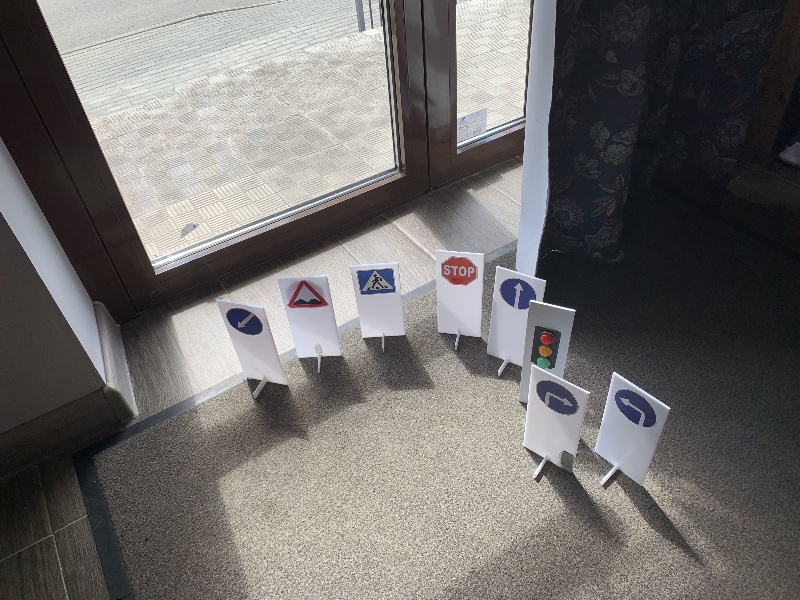Left: (613, 386, 657, 430)
Nerov: (287, 280, 326, 312)
Right: (533, 377, 579, 416)
Stop: (441, 255, 477, 288)
forw: (497, 277, 538, 311)
pesh: (355, 268, 395, 294)
prep: (224, 308, 264, 338)
